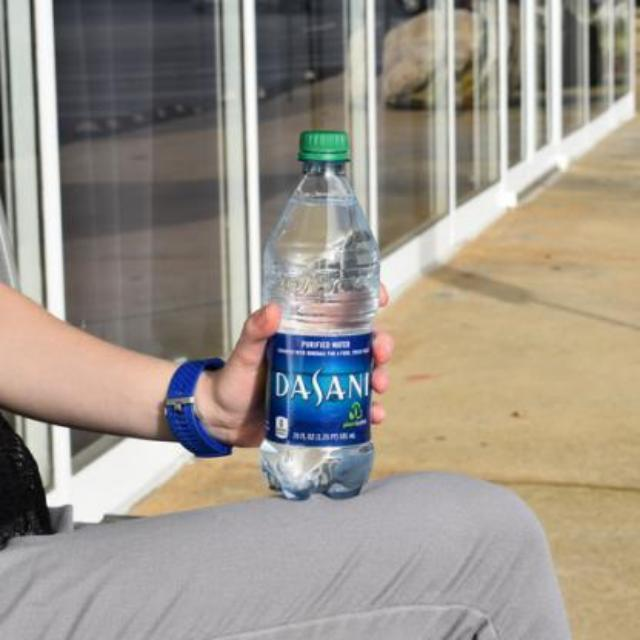bottle: (252, 120, 384, 510)
